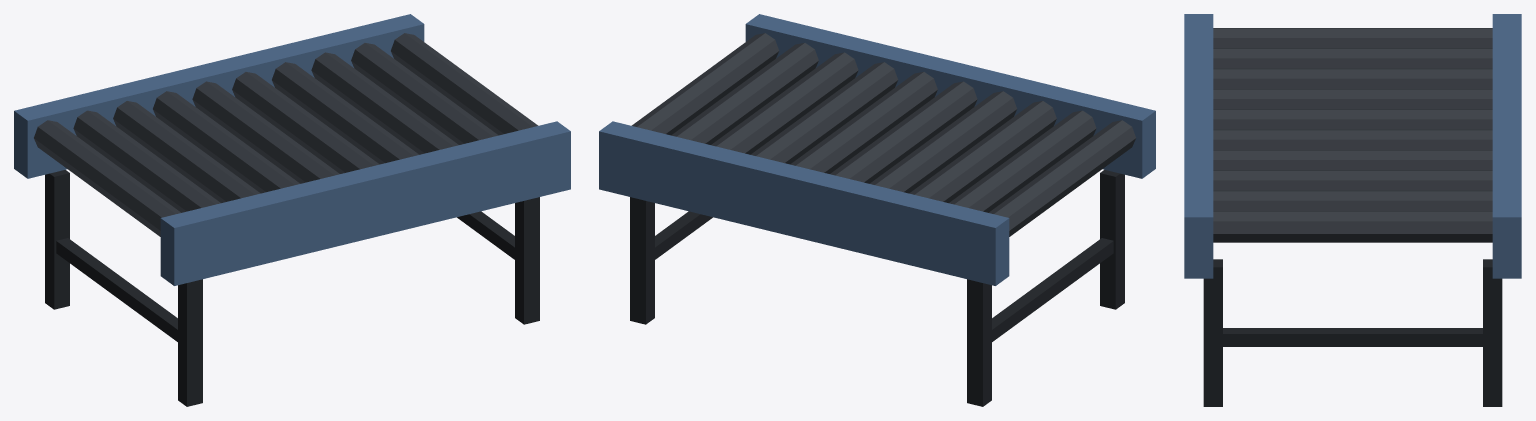
The model's file is conveyor.glb.
3 views of the same model, side by side, from view 1: azimuth 30°, elevation 25°; view 2: azimuth 150°, elevation 25°; view 3: azimuth 270°, elevation 25° (orthographic). The views are drawn at different scales.
Parts seen in each view (by area): view 1: ConvRollers, ConvRails, ConvLegs; view 2: ConvRollers, ConvRails, ConvLegs; view 3: ConvRollers, ConvRails, ConvLegs.
Part boxes in pixels (left/top/right/bottom): ConvRollers: left=34, top=33, right=538, bottom=236; ConvRails: left=14, top=14, right=570, bottom=285; ConvLegs: left=45, top=169, right=539, bottom=406; ConvRollers: left=631, top=33, right=1135, bottom=236; ConvRails: left=599, top=14, right=1155, bottom=285; ConvLegs: left=630, top=169, right=1124, bottom=406; ConvRollers: left=1213, top=28, right=1492, bottom=242; ConvRails: left=1184, top=14, right=1521, bottom=278; ConvLegs: left=1203, top=259, right=1502, bottom=406.
Size of the model in its own units: 2 by 0.92 by 1.4.
